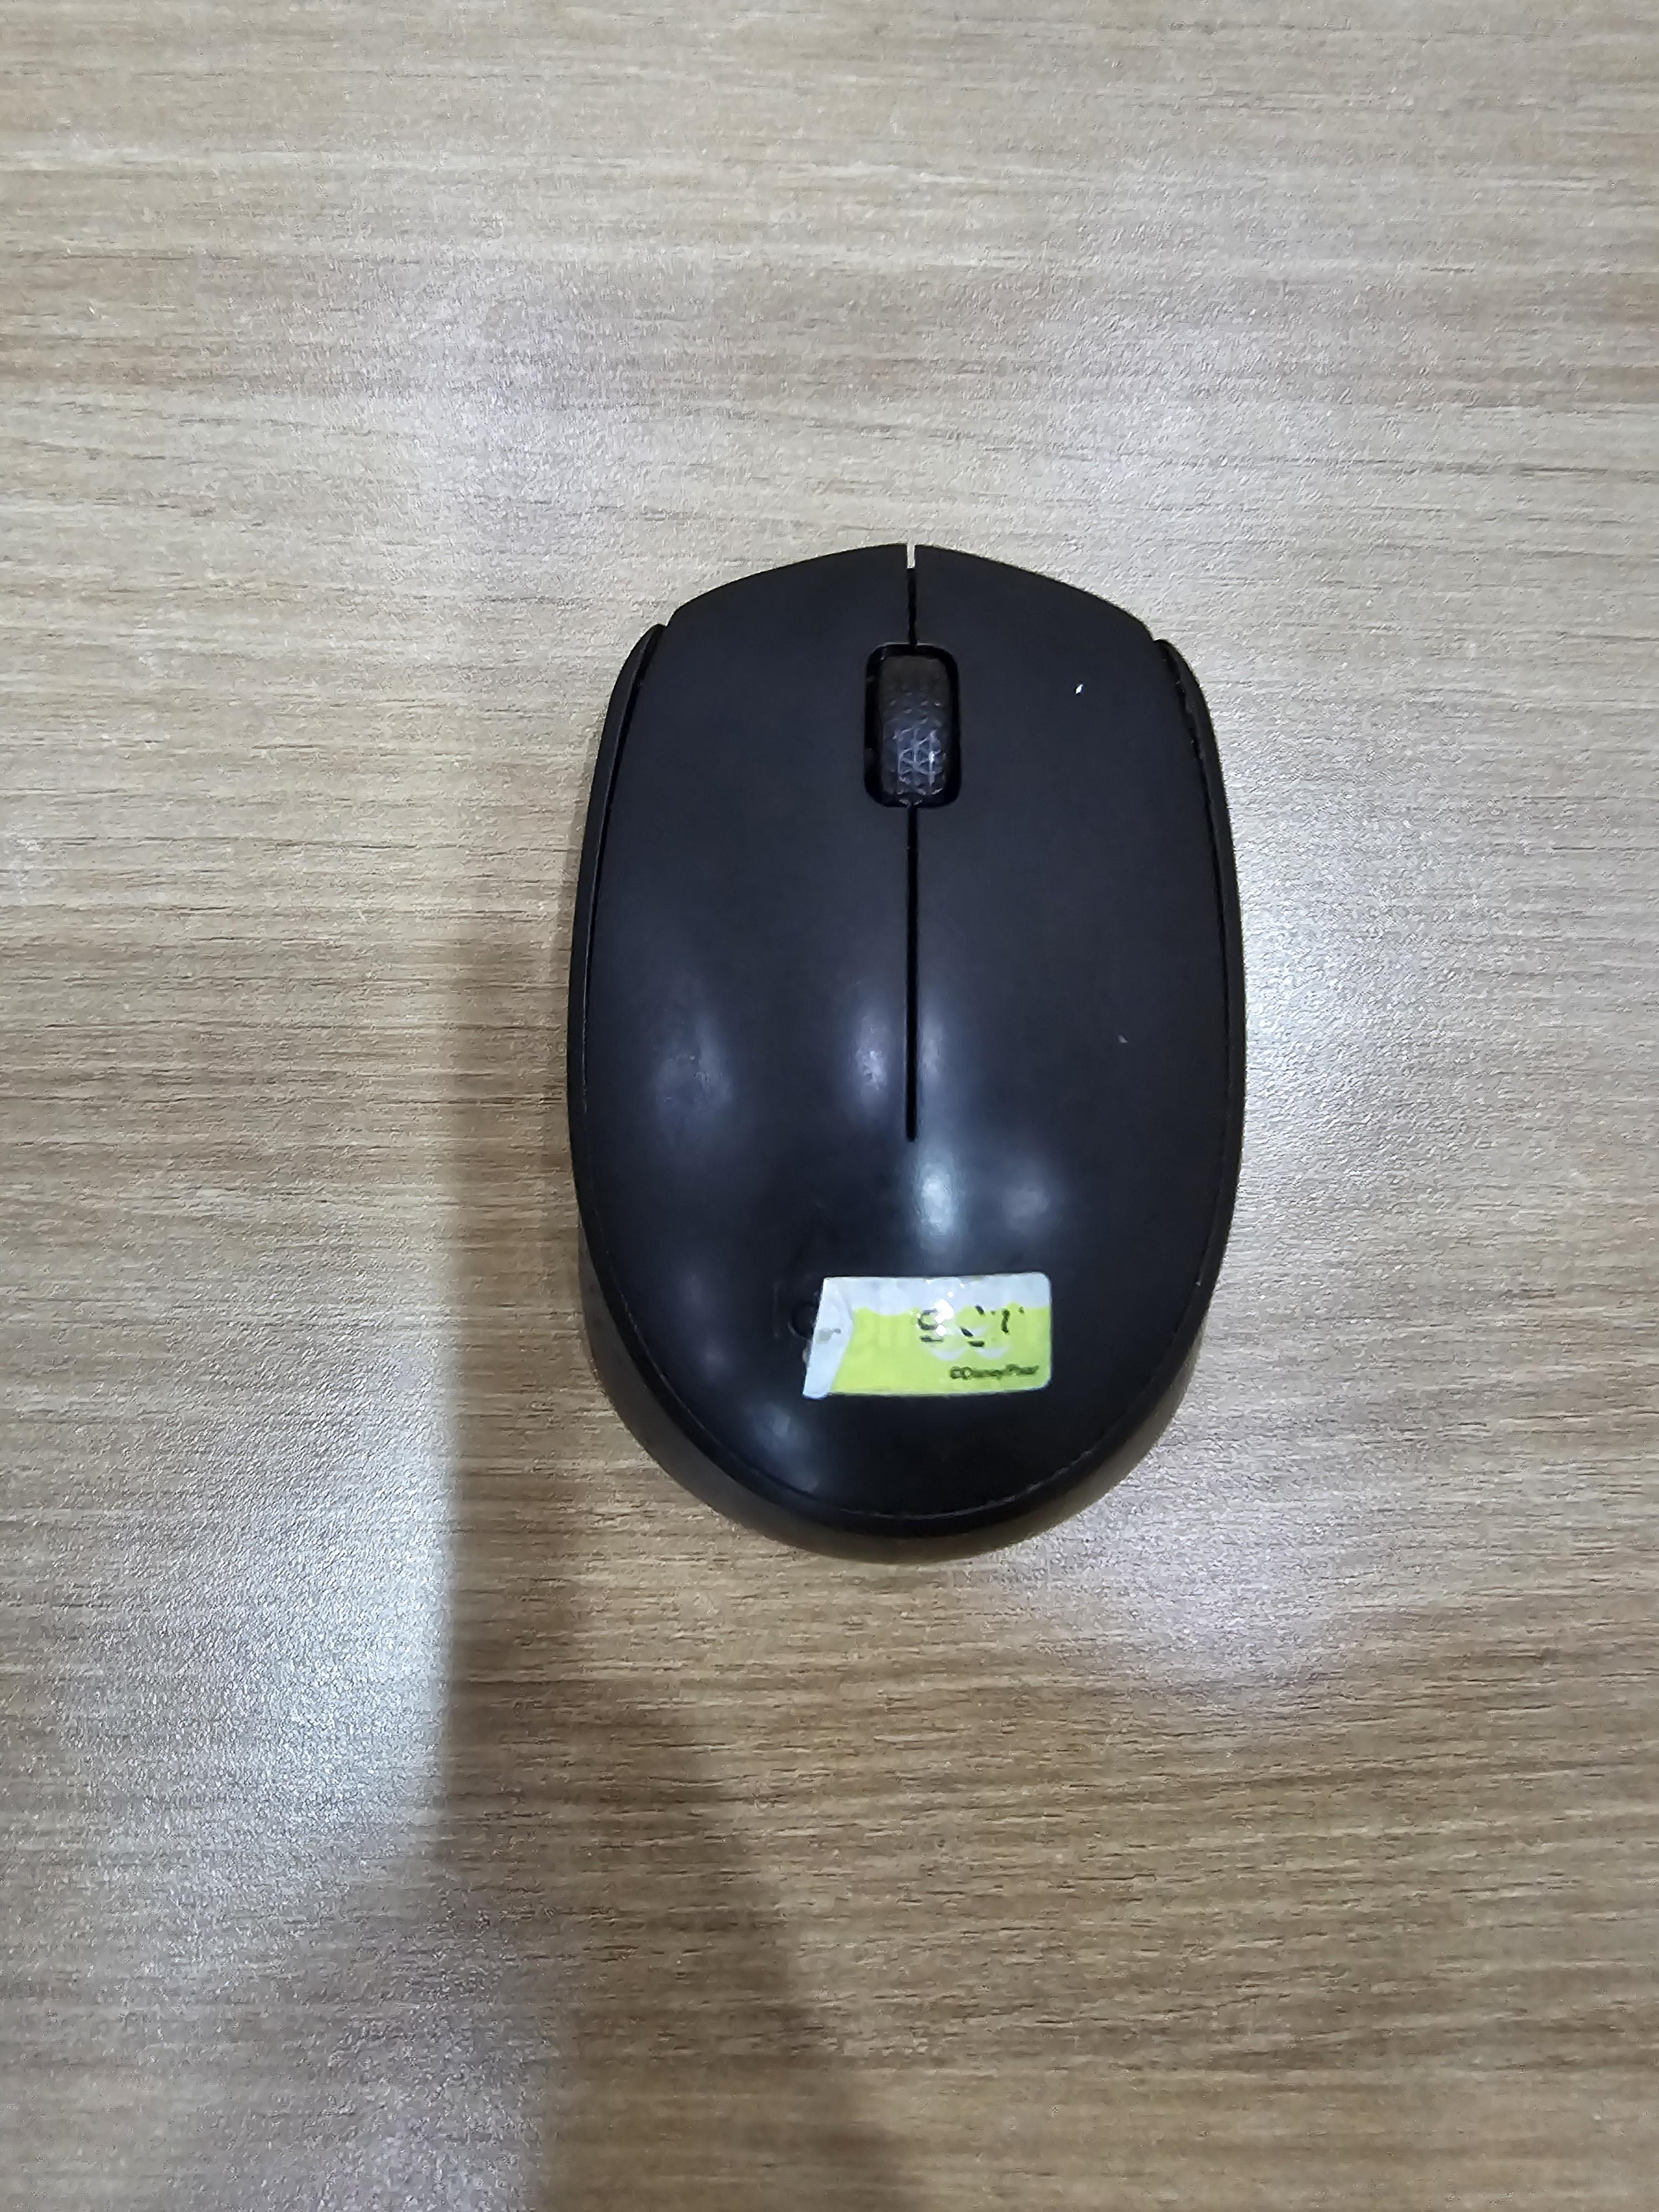mouse: (563, 538, 1248, 1566)
